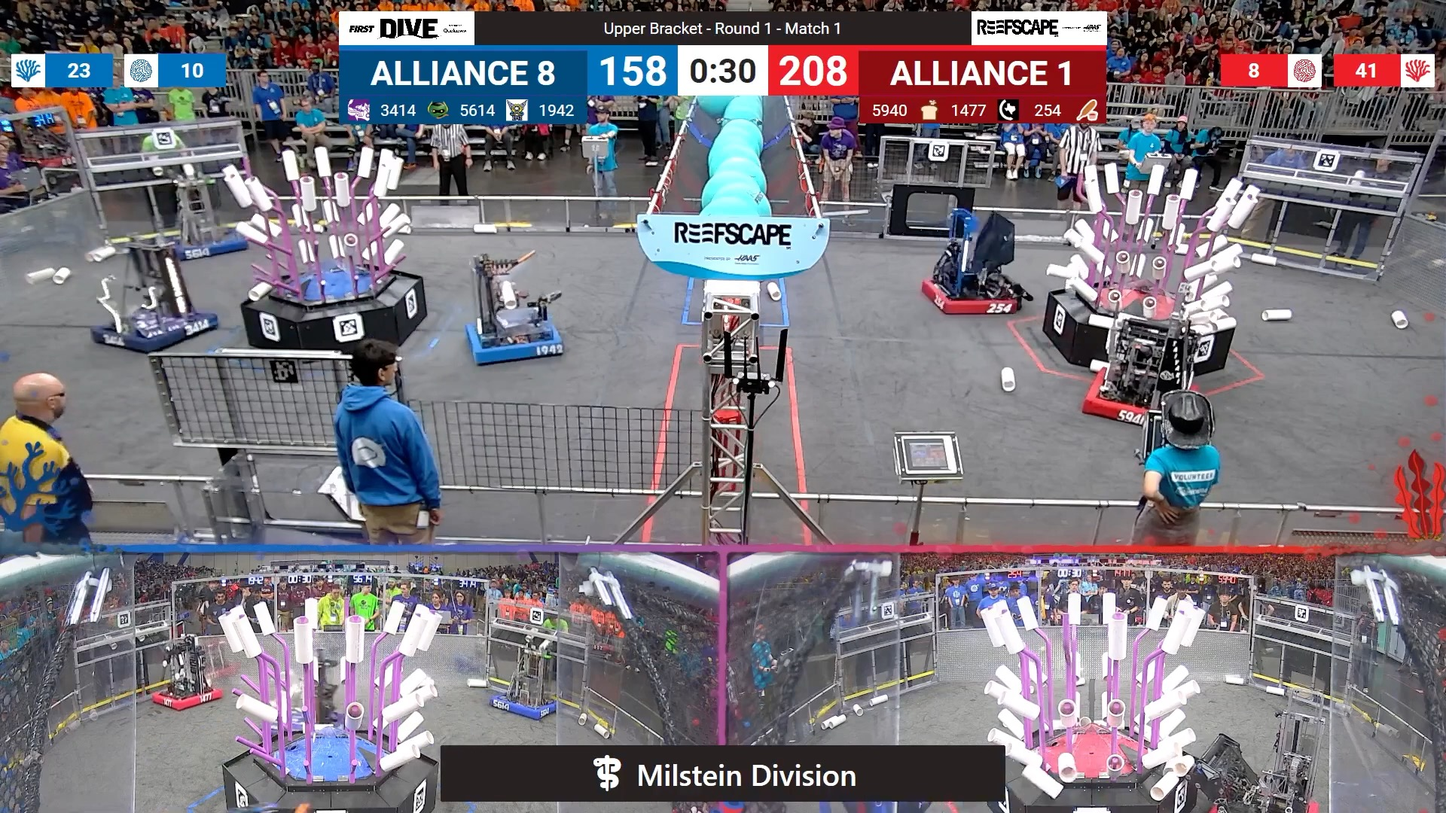bumpers: (1074, 370, 1194, 429), (93, 308, 228, 357), (462, 314, 572, 371), (913, 272, 1029, 323), (1193, 785, 1326, 813), (162, 235, 260, 265), (482, 689, 562, 723), (147, 682, 230, 713)
